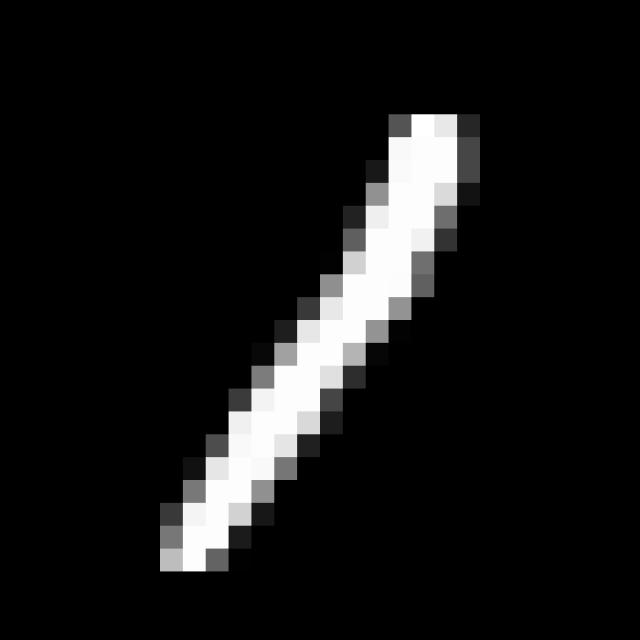one -1-: (146, 103, 480, 590)
